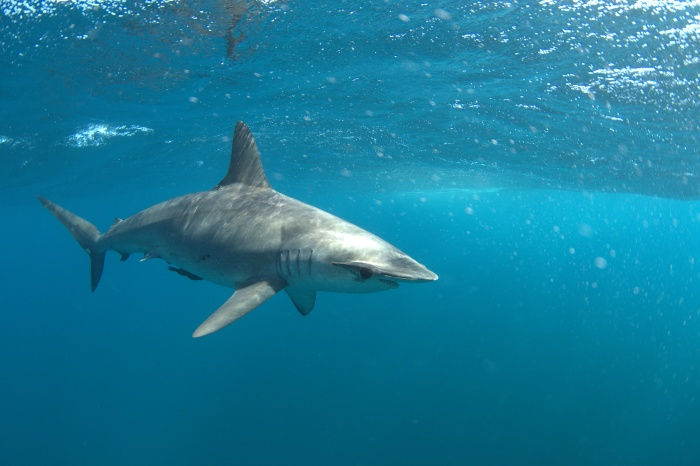Hammer: (16, 112, 466, 358)
